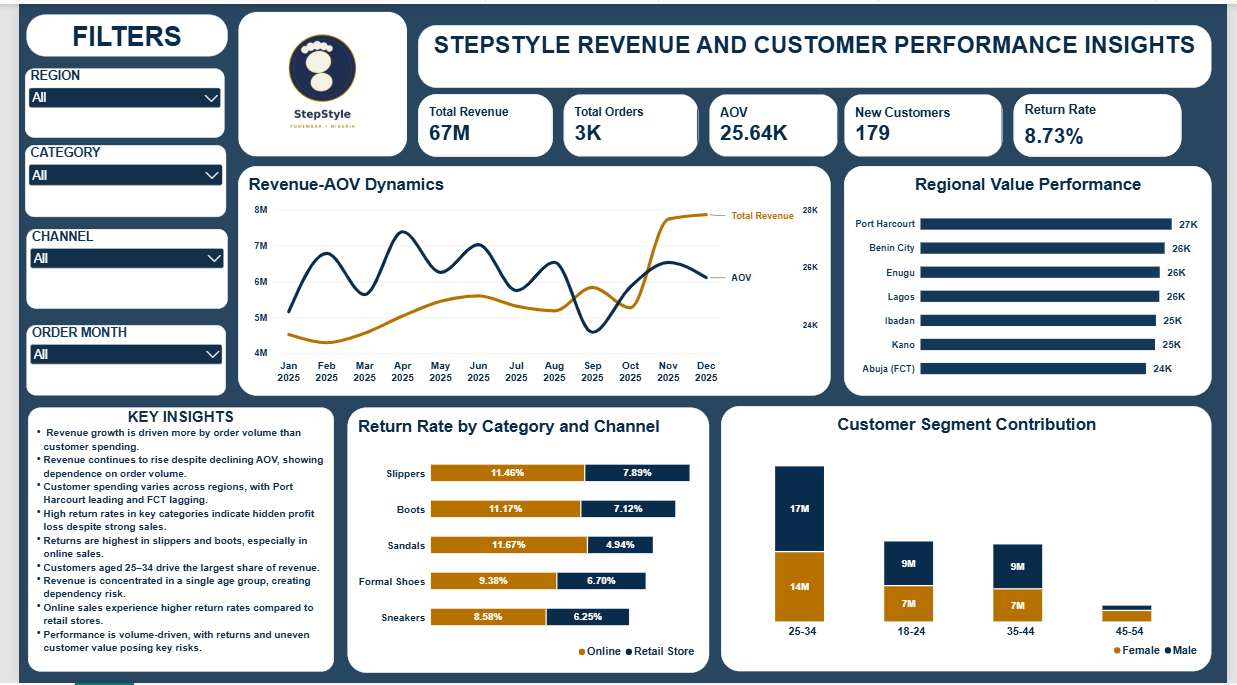

The dashboard page shown, as its layout file describes it:
{"tool":"powerbi","page":{"name":"Page 1","canvas":[1920,1080],"ordinal":0},"visuals":[{"type":"cardVisual","fields":{"Data":["Calculated fields.Total Revenue"]},"box":[634.7,143.2,214.7,100.2],"z":0},{"type":"cardVisual","fields":{"Data":["Calculated fields.Total Orders"]},"box":[866.1,143.2,214.7,100.2],"z":1000},{"type":"cardVisual","fields":{"Data":["Calculated fields.AOV"]},"box":[1097.5,143.2,205.2,100.2],"z":2000},{"type":"cardVisual","fields":{"Data":["Calculated fields.New Customers"]},"box":[1312.3,143.2,252.9,100.2],"z":3000},{"type":"cardVisual","fields":{"Data":["Calculated fields.Return Rate"]},"box":[1581.9,143.2,267.2,100.2],"z":4000},{"type":"lineChart","title":"Revenue-AOV Dynamics","fields":{"Category":["Fact_Sales.Order Month"],"Y":["Calculated fields.Total Revenue"],"Y2":["Calculated fields.AOV"]},"box":[348.3,257.7,942.4,365],"z":5000},{"type":"slicer","fields":{"Values":["Dim_Product.Category"]},"box":[9.5,224.3,319.7,114.5],"z":7000},{"type":"slicer","fields":{"Values":["Fact_Sales.Channel"]},"box":[11.9,357.9,319.7,126.5],"z":8000},{"type":"slicer","fields":{"Values":["Fact_Sales.Order Month"]},"box":[11.9,510.6,317.3,112.1],"z":9000},{"type":"barChart","title":"Regional Value Performance","fields":{"Category":["Dim_Customer.Region"],"Y":["Calculated fields.AOV"]},"box":[1312.3,257.7,584.5,365],"z":10000},{"type":"barChart","fields":{"Category":["Dim_Product.Category"],"Series":["Fact_Sales.Channel"],"Y":["Calculated fields.Return Rate"]},"box":[522.5,641.8,575,422.3],"z":11000},{"type":"columnChart","title":"Customer Segment Contribution","fields":{"Category":["Dim_Customer.AgeGroup"],"Series":["Dim_Customer.Gender"],"Y":["Calculated fields.Total Revenue"]},"box":[1116.6,639.4,780.2,422.3],"z":12000},{"type":"image","box":[348.3,11.9,269.6,231.4],"z":13000},{"type":"textbox","box":[11.9,16.7,319.7,66.8],"z":14000},{"type":"textbox","box":[634.7,33.4,1262.1,100.2],"z":15000},{"type":"slicer","fields":{"Values":["Dim_Customer.Region"]},"box":[9.5,102.6,317.3,109.8],"z":15001},{"type":"textbox","box":[14.3,641.8,486.7,419.9],"z":15002}]}

Visuals, with their boxes in screenshot pixels (x1, y1, x2, y2), scaled from the page's 1920x1080 canvas onto the 1237x685 screenshot:
cardVisual - Calculated fields.Total Revenue: bbox=[409, 91, 547, 154]
cardVisual - Calculated fields.Total Orders: bbox=[558, 91, 696, 154]
cardVisual - Calculated fields.AOV: bbox=[707, 91, 839, 154]
cardVisual - Calculated fields.New Customers: bbox=[845, 91, 1008, 154]
cardVisual - Calculated fields.Return Rate: bbox=[1019, 91, 1191, 154]
"Revenue-AOV Dynamics" lineChart: bbox=[224, 163, 832, 395]
slicer - Dim_Product.Category: bbox=[6, 142, 212, 215]
slicer - Fact_Sales.Channel: bbox=[8, 227, 214, 307]
slicer - Fact_Sales.Order Month: bbox=[8, 324, 212, 395]
"Regional Value Performance" barChart: bbox=[845, 163, 1222, 395]
barChart - Dim_Product.Category x Fact_Sales.Channel: bbox=[337, 407, 707, 675]
"Customer Segment Contribution" columnChart: bbox=[719, 406, 1222, 673]
image: bbox=[224, 8, 398, 154]
textbox: bbox=[8, 11, 214, 53]
textbox: bbox=[409, 21, 1222, 85]
slicer - Dim_Customer.Region: bbox=[6, 65, 211, 135]
textbox: bbox=[9, 407, 323, 673]
